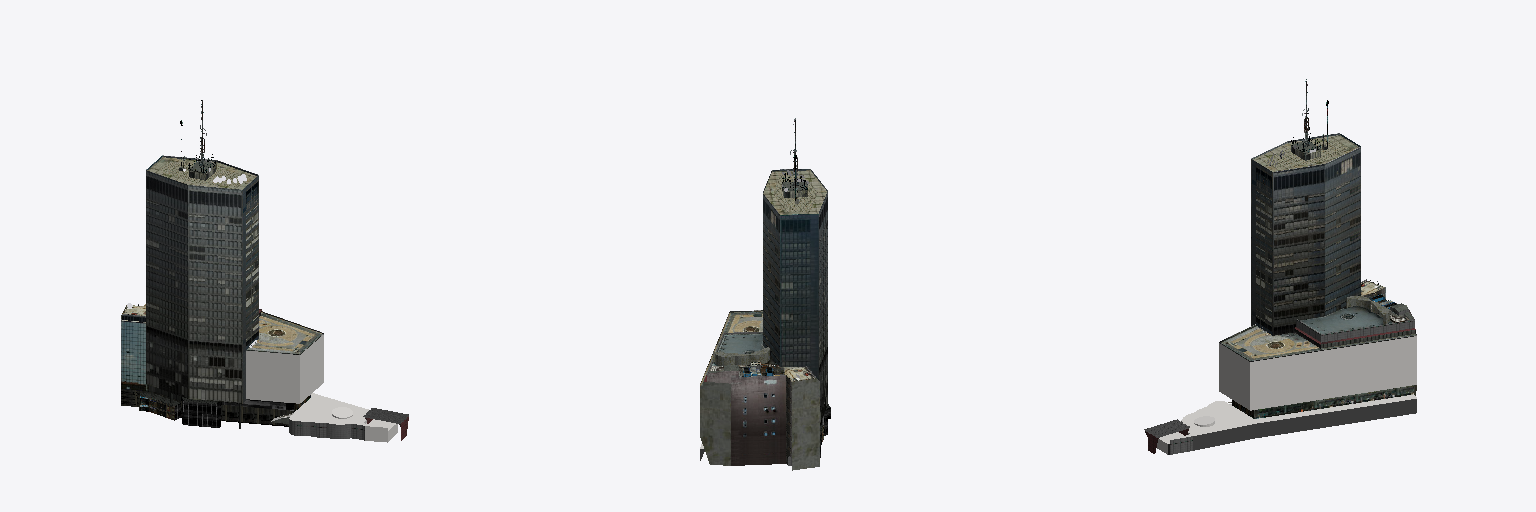
3 views of the same model, side by side, from view 1: azimuth 30°, elevation 25°; view 2: azimuth 150°, elevation 25°; view 3: azimuth 270°, elevation 25° (orthographic).
Parts seen in each view (by area): view 1: Mesh1 Model; view 2: Mesh1 Model; view 3: Mesh1 Model.
Boxes of the visible parts, box(x1,y1,x2,y2) form: Mesh1 Model: box(121, 120, 397, 442); Mesh1 Model: box(700, 155, 830, 470); Mesh1 Model: box(1157, 100, 1416, 454).
Bounding box in the file's own units: 79.13 × 127 × 101.
43 materials, 39 textured.